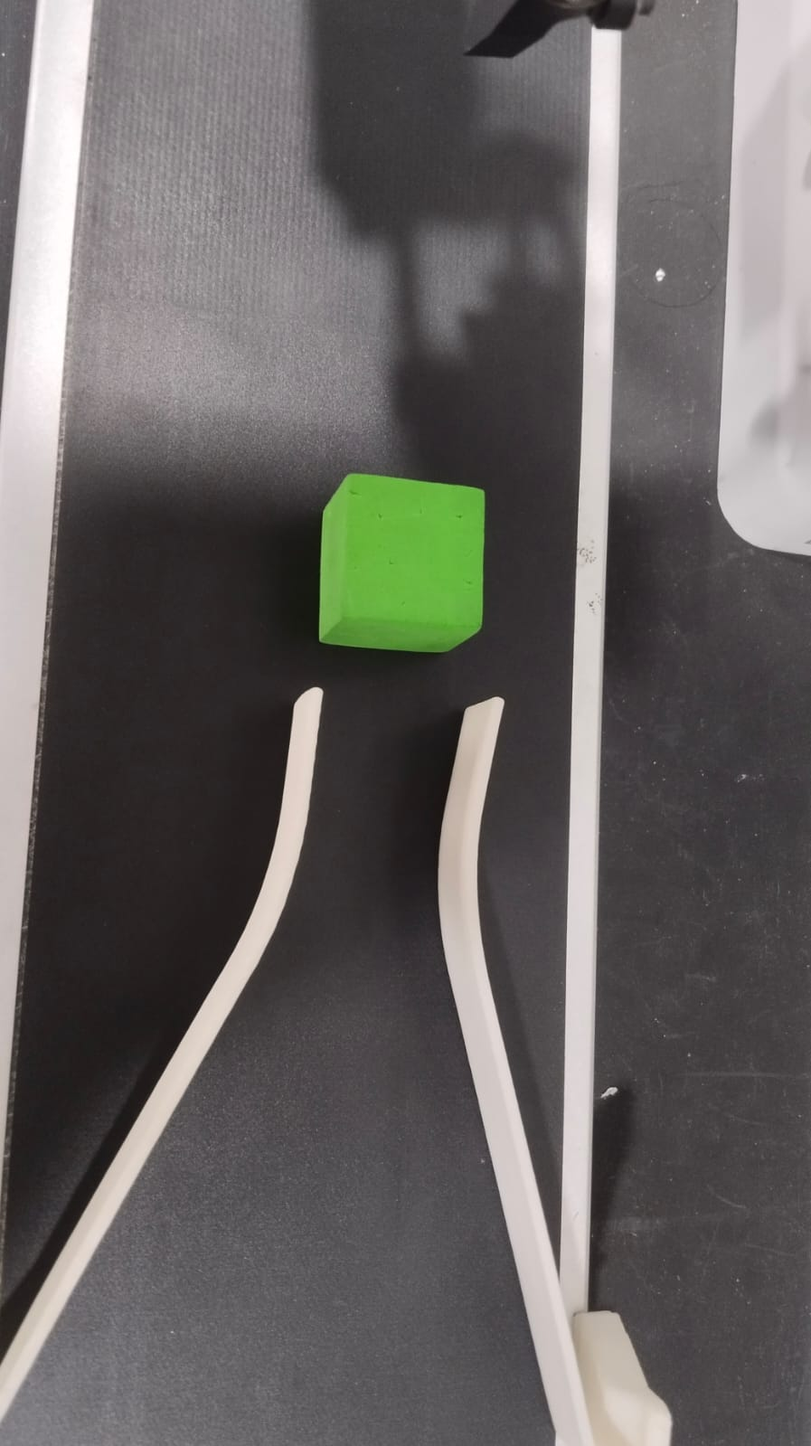green: (315, 472, 489, 655)
